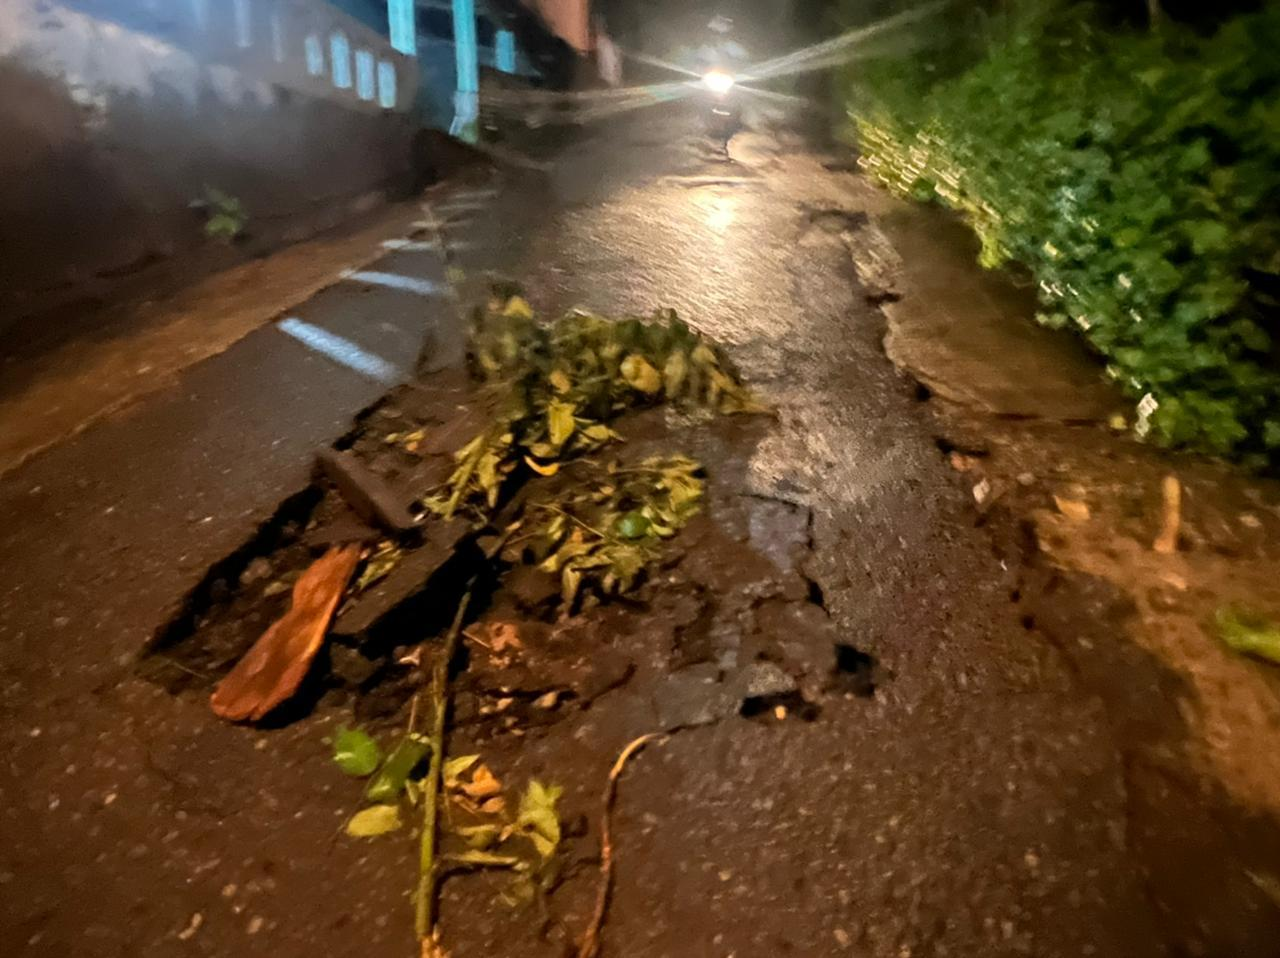Pothole: (161, 296, 889, 819)
